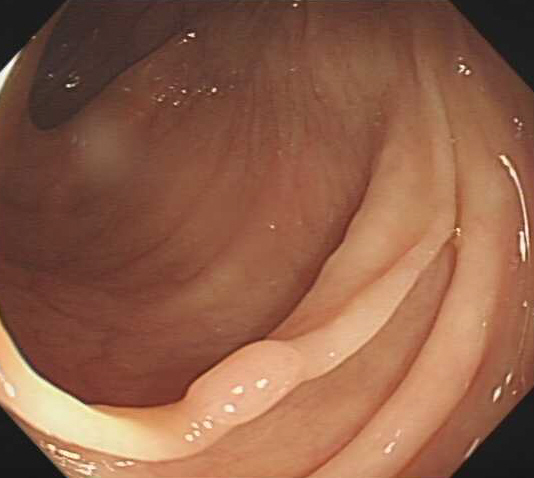others: (179, 337, 304, 426)
